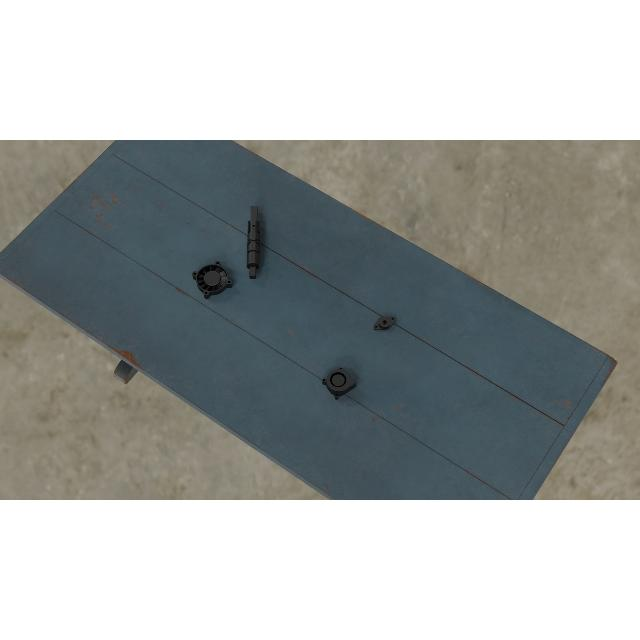Pieza1: (246, 204, 262, 280)
Pieza2: (370, 312, 398, 334)
Pieza3: (320, 364, 356, 402)
Pieza4: (190, 260, 233, 300)
